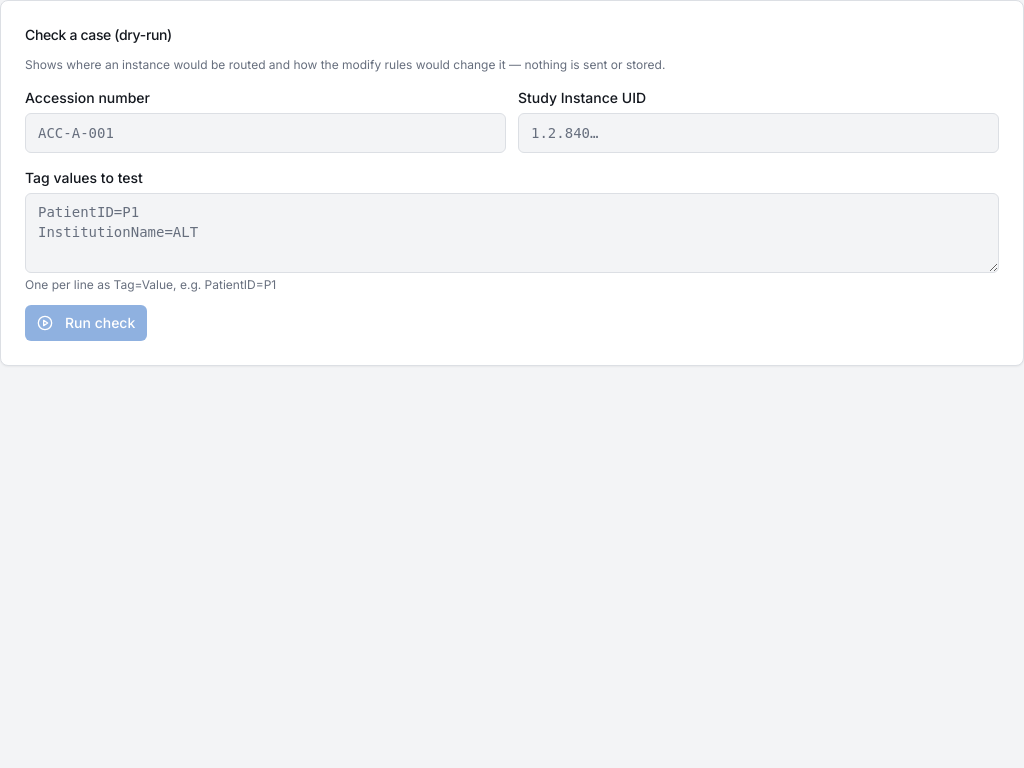
CaseCheckPanel › sends the case and shows the routing decision plus the tag diff
Type "ACC-1" into the field labelled "Accession number" at (266, 133), box x1=25 y1=113 x2=506 y2=153
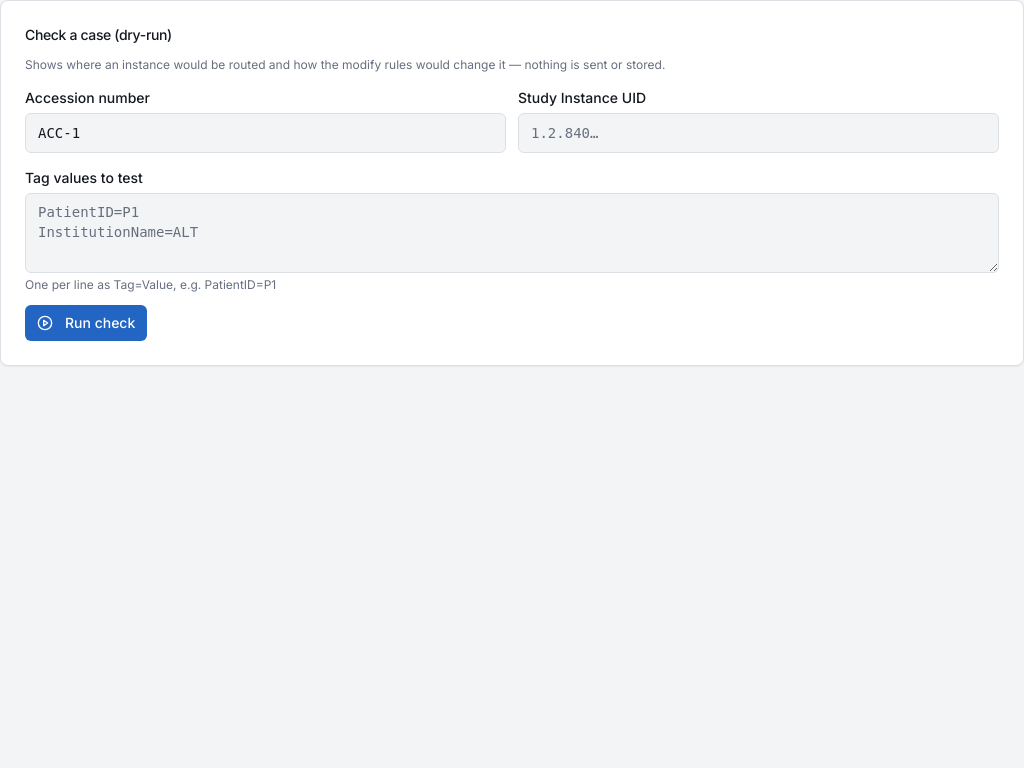
Type "PatientID=P1" into the text box labelled "Tag values to test" at (512, 233), box x1=25 y1=193 x2=999 y2=273
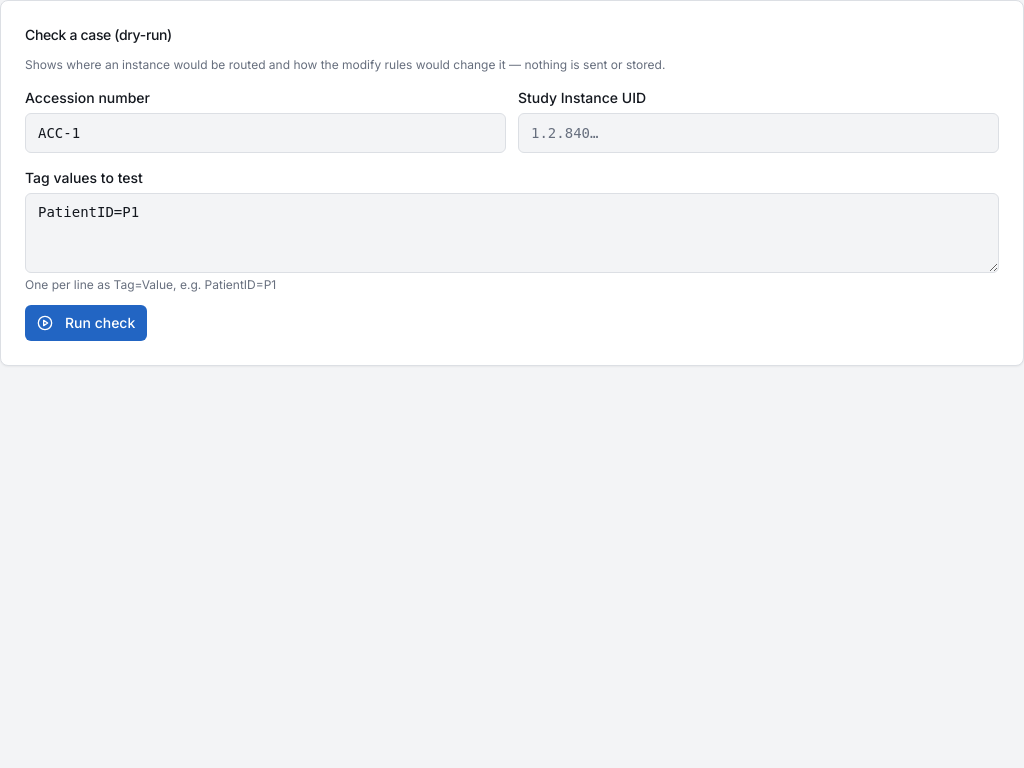
Click the button "Run check" at (86, 323), box x1=25 y1=305 x2=147 y2=341
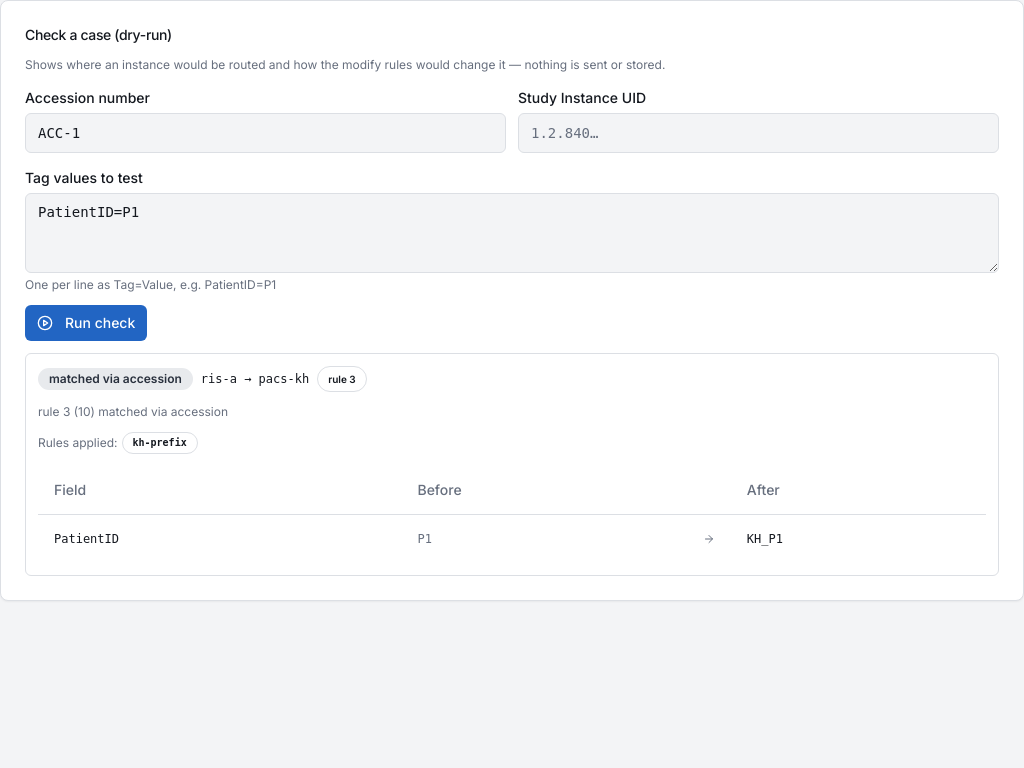
Expected: the element with test id "case-check-result" shows "ris-a → pacs-kh", x1=25 y1=353 x2=999 y2=576
Expected: the element with test id "case-check-result" shows "matched via accession", x1=49 y1=371 x2=182 y2=386
Expected: the element with test id "case-check-result" shows "rule 3", x1=328 y1=373 x2=356 y2=385
